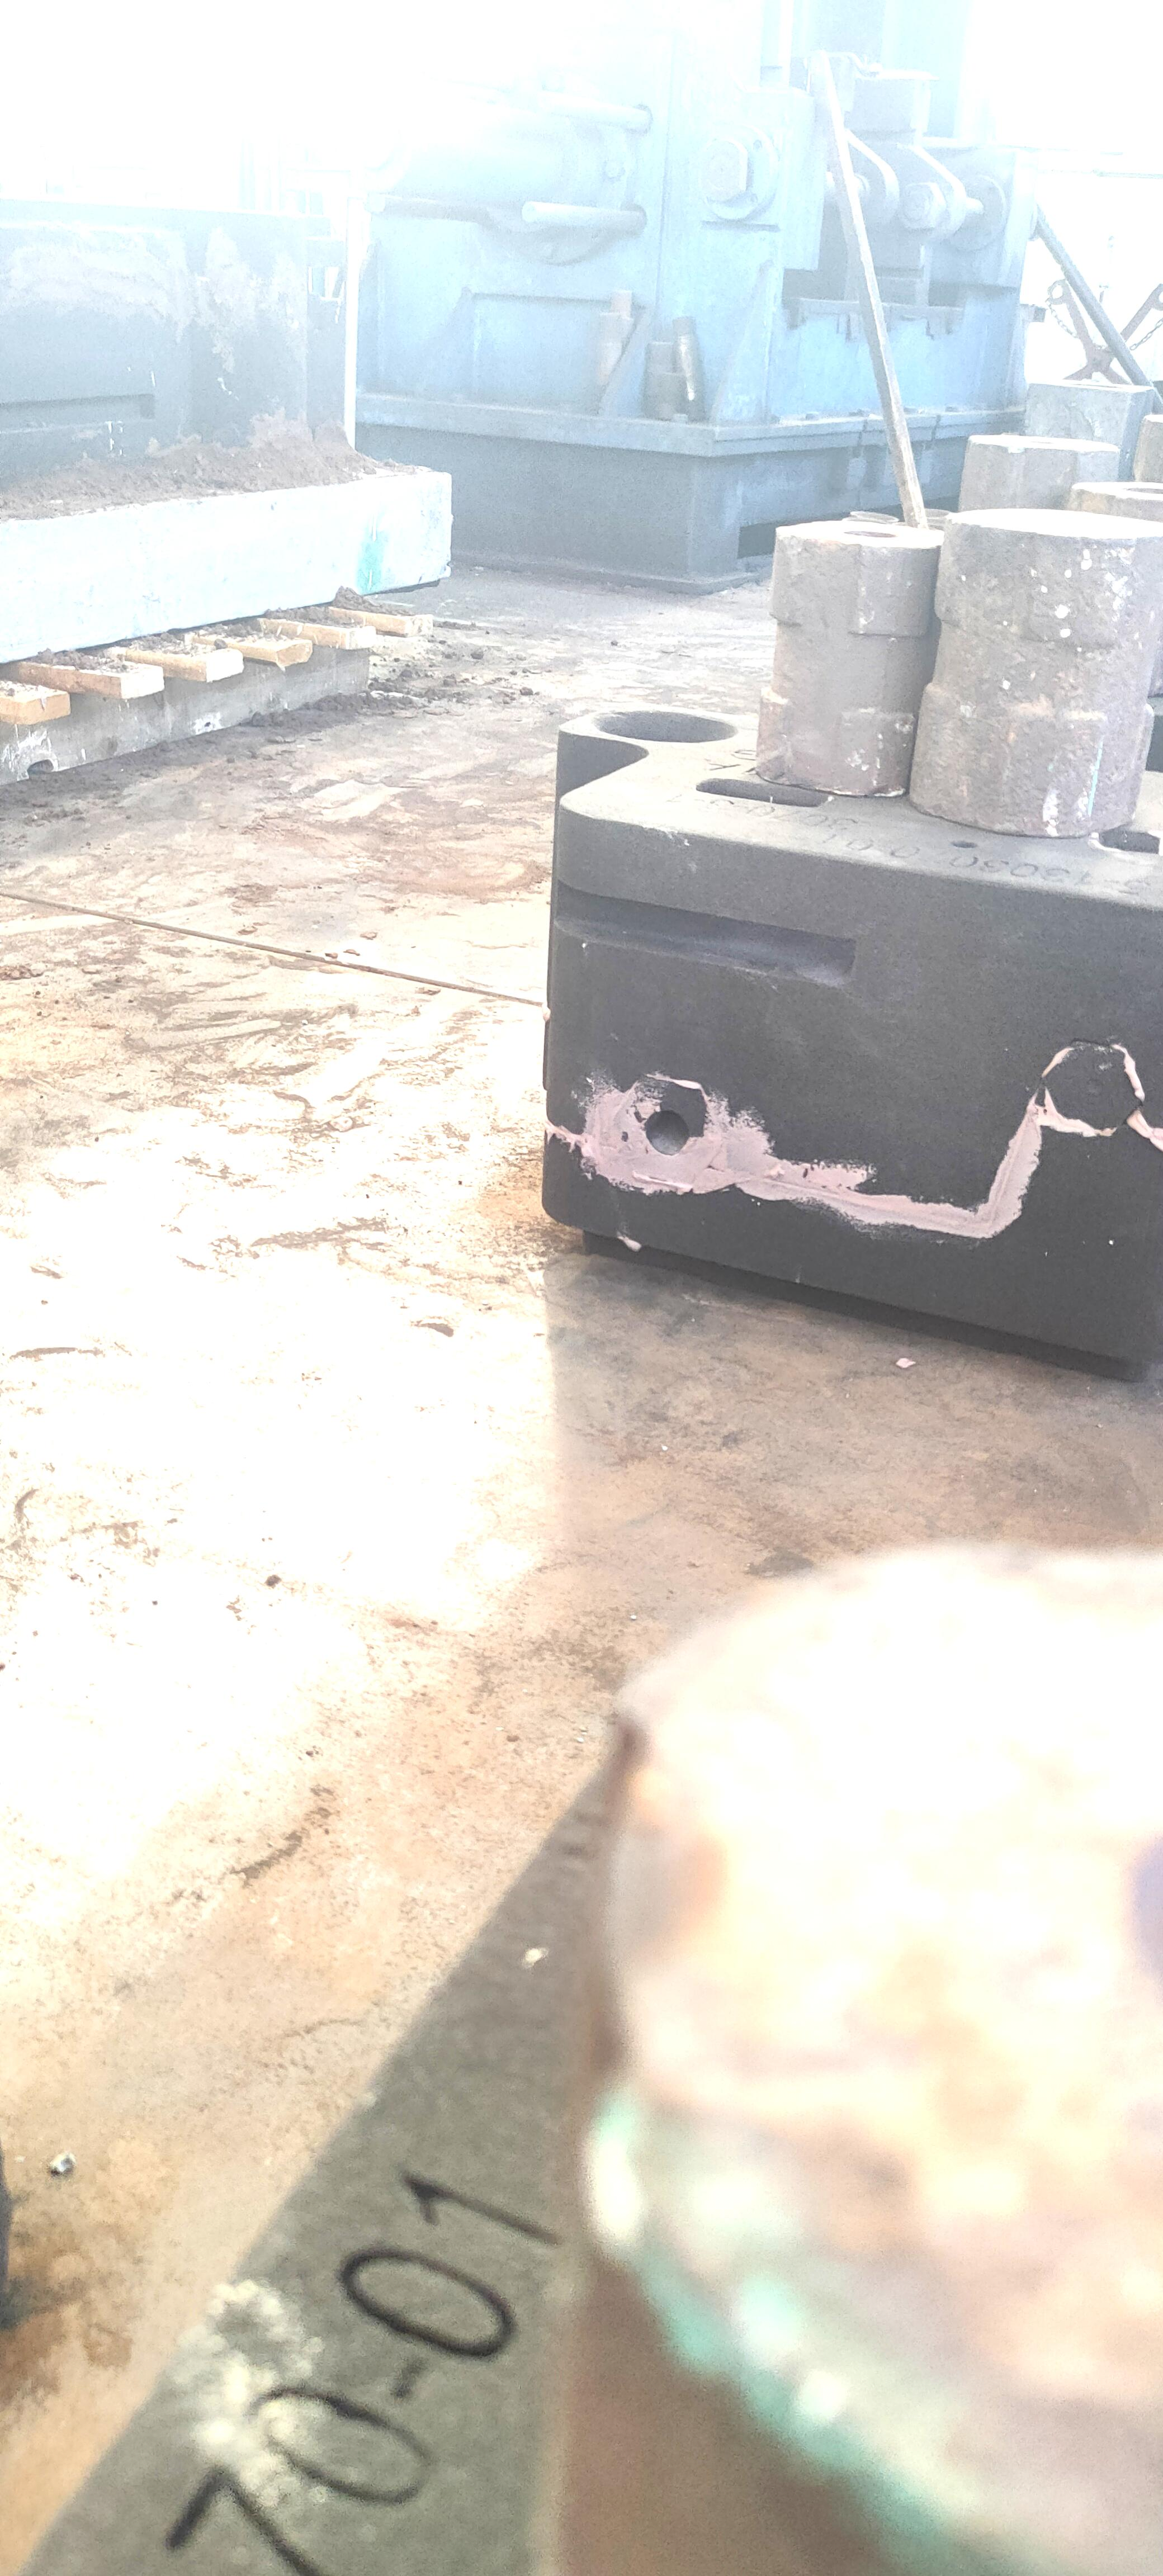pouring hole: (590, 708, 742, 749)
